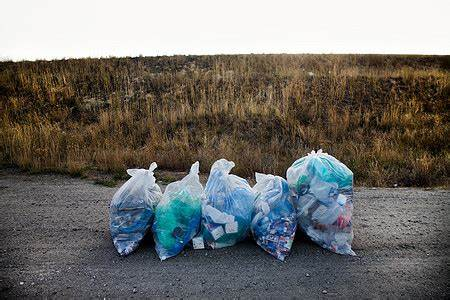garbage: (108, 162, 365, 256)
